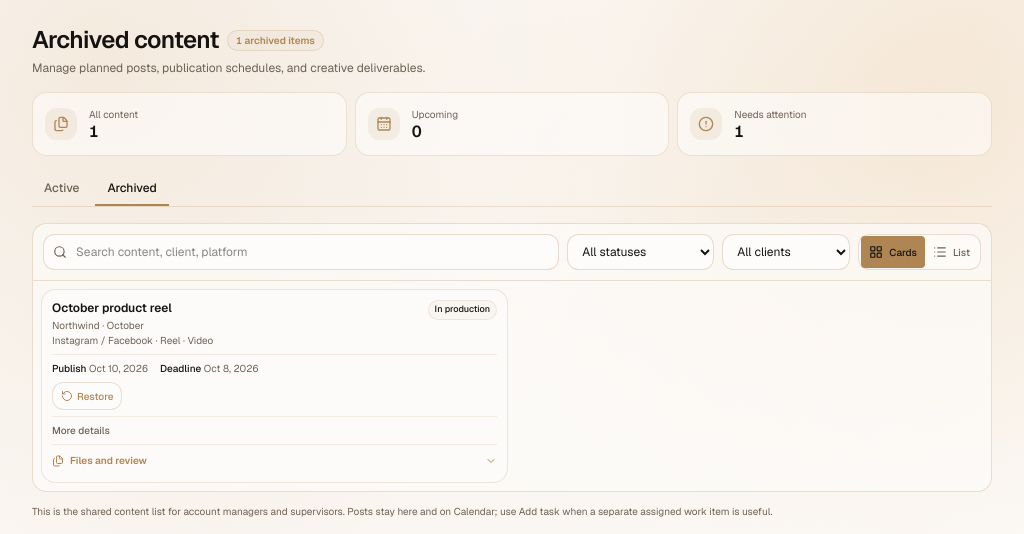
Test: unified content tracker › offers restore actions in the archived view
Expected: the heading "Archived content" is shown, [32,24,219,56]
Click the button "Restore" at (87,396), box [52,382,122,410]
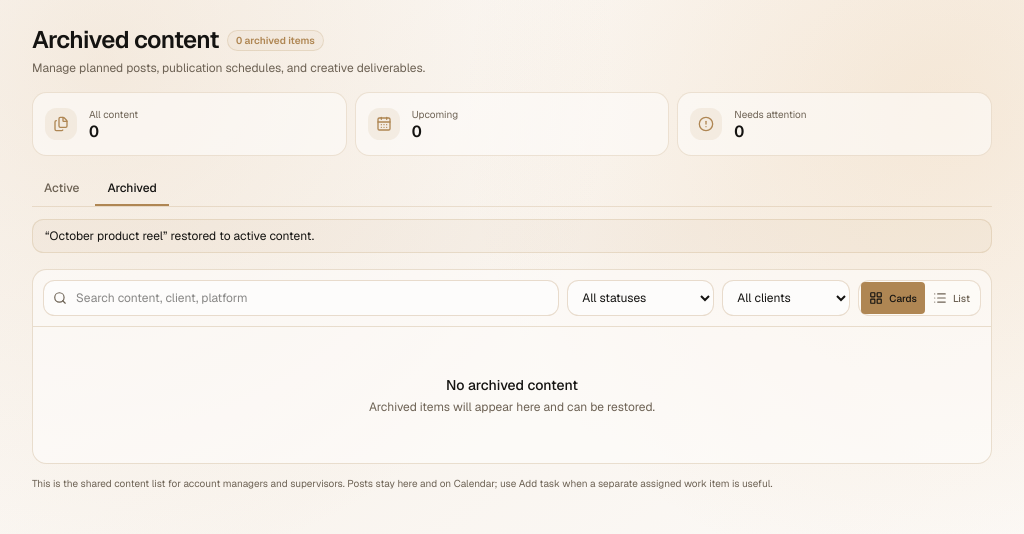
Expected: the text "“October product reel” restored to active content." is shown, [45,228,314,244]
